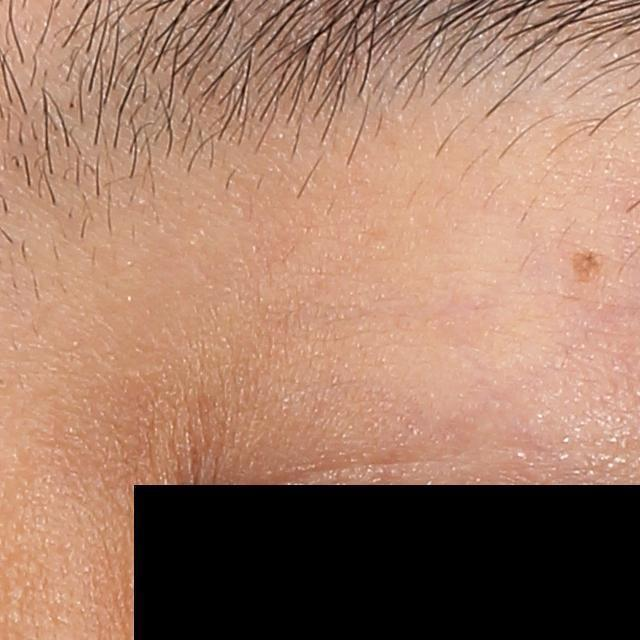nevus: (572, 248, 608, 284)
